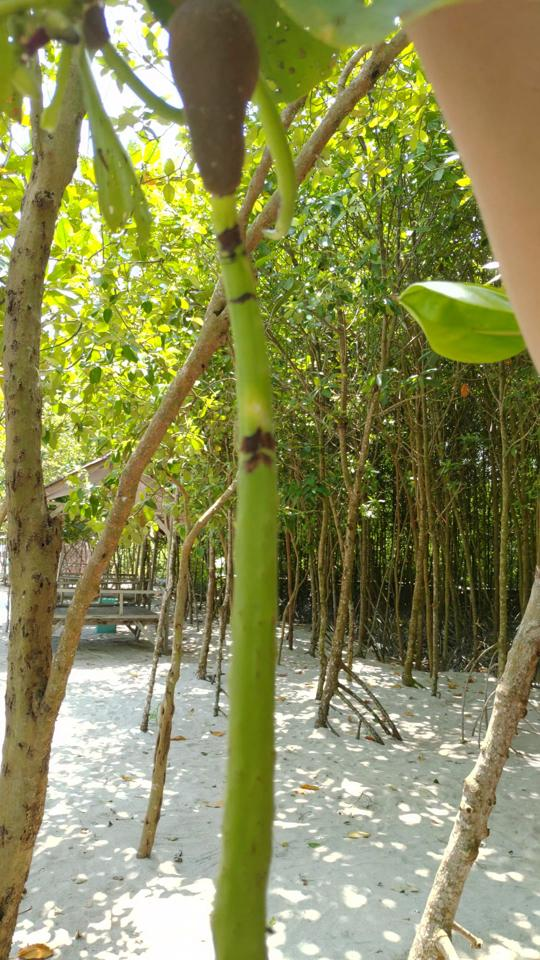setengah matang: (133, 1, 298, 956)
